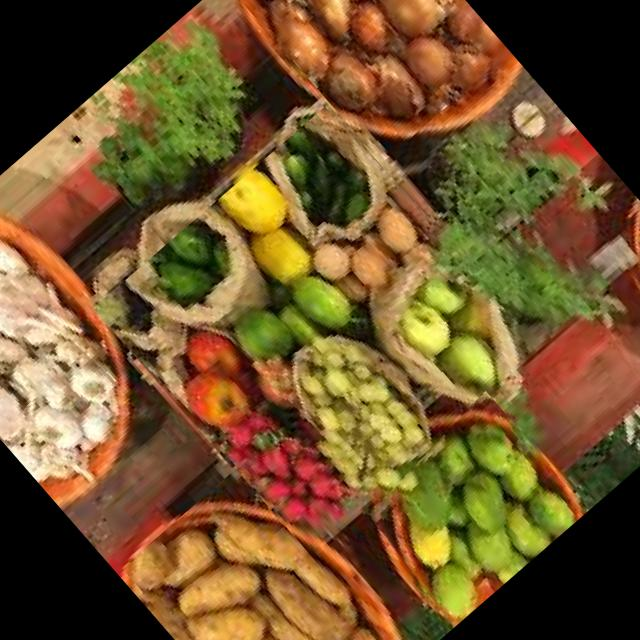Organic: (91, 97, 528, 530), (347, 390, 589, 630), (115, 468, 407, 640), (222, 0, 509, 162), (0, 204, 148, 498), (594, 203, 640, 393)
